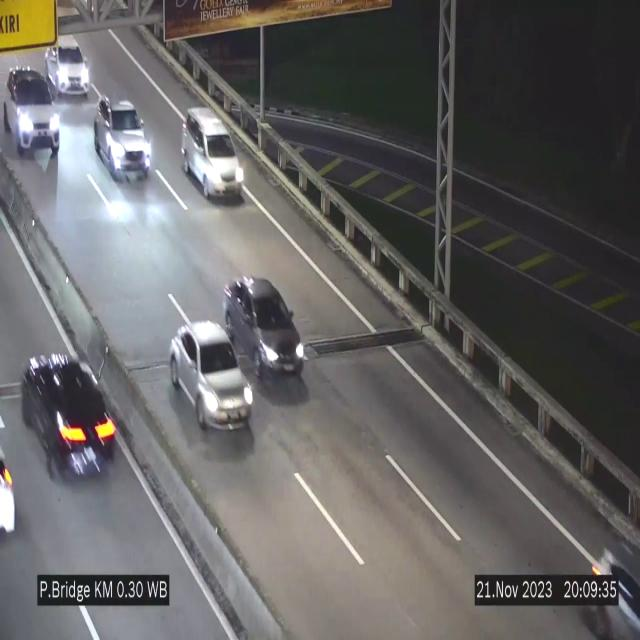Car: (170, 322, 254, 432), (224, 276, 305, 386), (182, 107, 244, 199), (3, 66, 61, 162), (95, 95, 152, 178), (46, 31, 92, 100)
